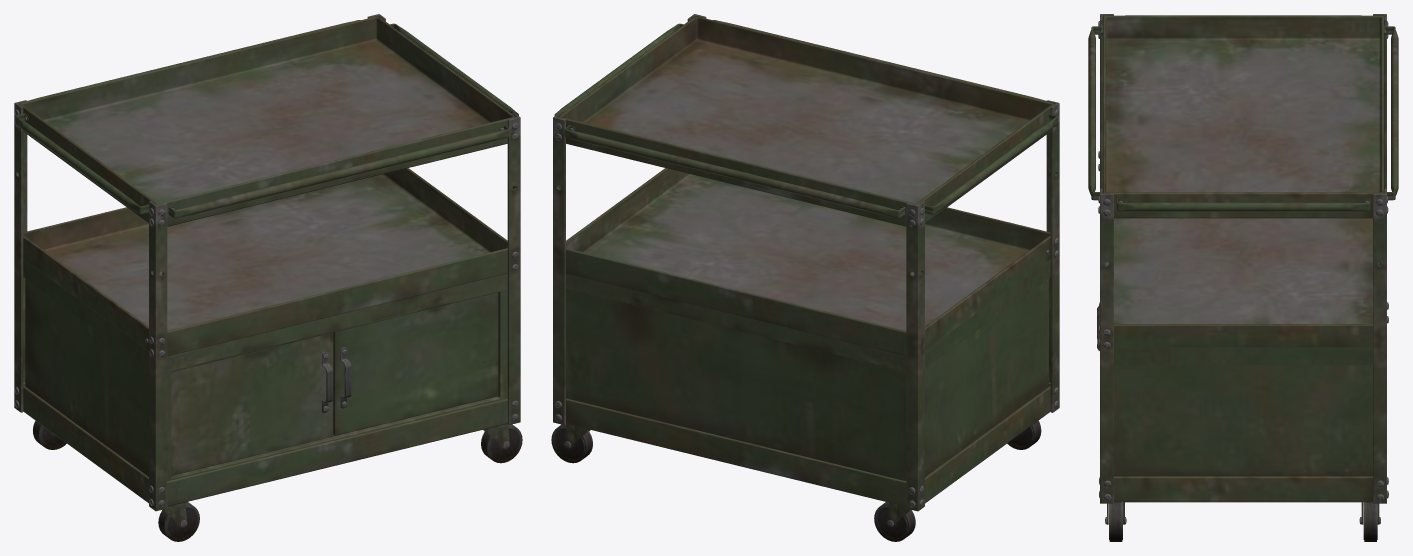
The model's file is industrial_storage_cart.glb.
3 renders of one model, left to right at view 1: azimuth 30°, elevation 25°; view 2: azimuth 150°, elevation 25°; view 3: azimuth 270°, elevation 25°, orthographic.
Parts seen in each view (by area): view 1: industrial_storage_cart; view 2: industrial_storage_cart; view 3: industrial_storage_cart.
Part boxes in pixels (bbox=[...]): industrial_storage_cart: bbox=[14, 14, 522, 541]; industrial_storage_cart: bbox=[551, 14, 1059, 541]; industrial_storage_cart: bbox=[1088, 14, 1398, 541].
Size of the model in its own units: 1.6 by 1.38 by 1.1.
1 material, 1 textured.
